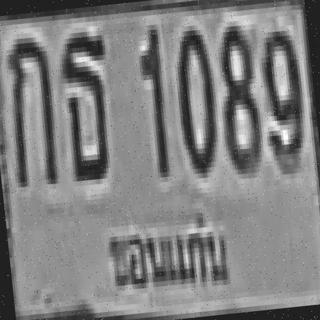A01: (0, 31, 57, 183)
A24: (56, 25, 115, 177)
N00: (170, 19, 218, 170)
N01: (135, 22, 169, 171)
N08: (213, 20, 261, 170)
N09: (256, 25, 305, 170)
P18: (98, 195, 236, 305)
